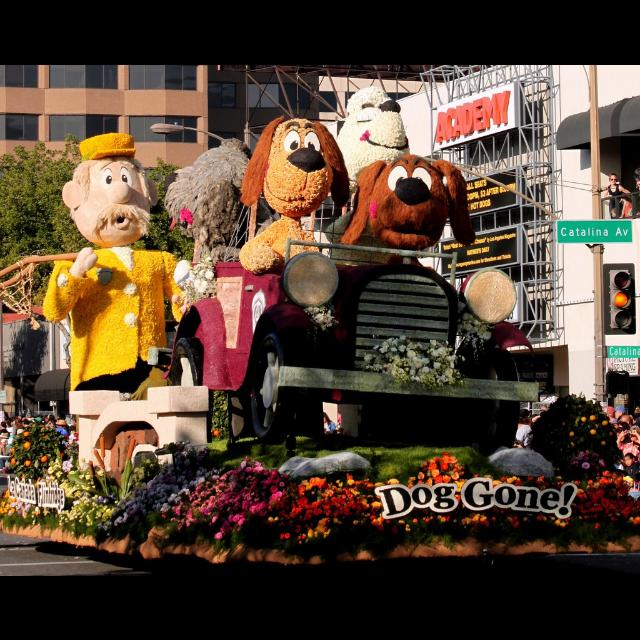Flower: (286, 475, 564, 539), (96, 453, 280, 541), (0, 419, 100, 521), (355, 331, 465, 381), (567, 468, 639, 522), (452, 304, 494, 356), (178, 254, 215, 292), (300, 304, 338, 332), (580, 456, 594, 469)
